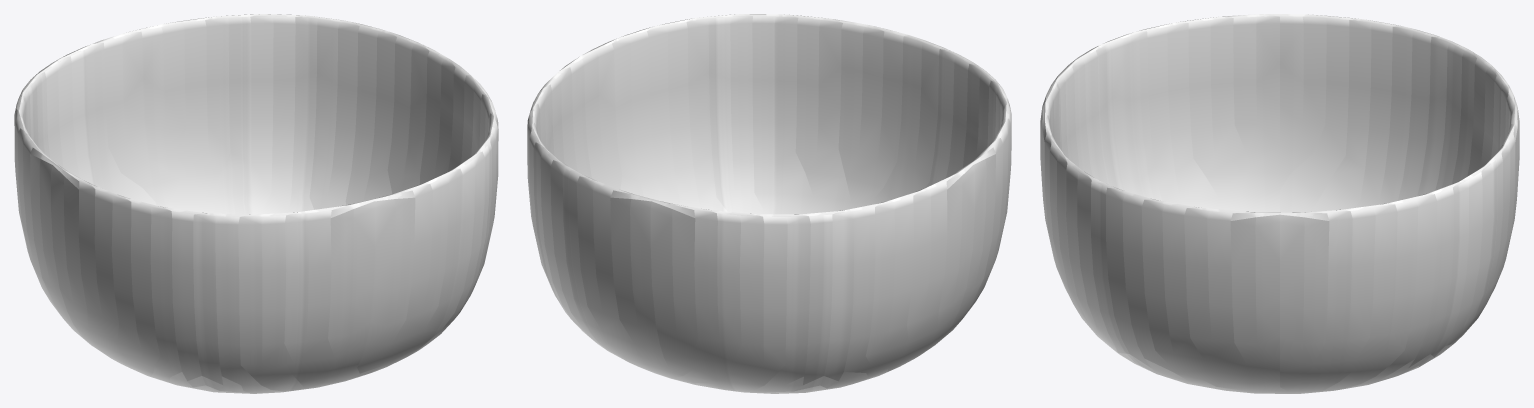
File: bowl.obj
3 renders of one model, left to right at view 1: azimuth 30°, elevation 25°; view 2: azimuth 150°, elevation 25°; view 3: azimuth 270°, elevation 25°, orthographic.
Parts seen in each view (by area): view 1: Schüssel; view 2: Schüssel; view 3: Schüssel.
Part boxes in pixels (x1,y1,x2,y2): Schüssel: (14,14,498,393); Schüssel: (527,14,1011,393); Schüssel: (1040,14,1519,393).
Bounding box in the file's own units: 1.02 × 0.5622 × 1.02.
1 material, 1 textured.
